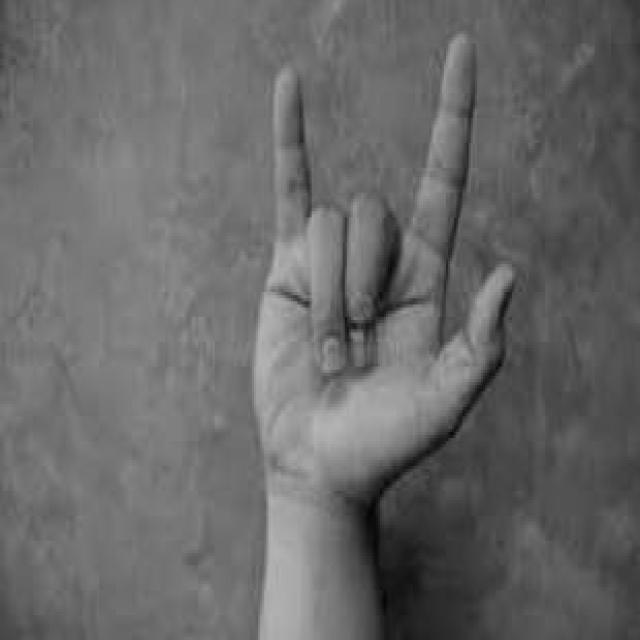i love you: (246, 18, 523, 551)
